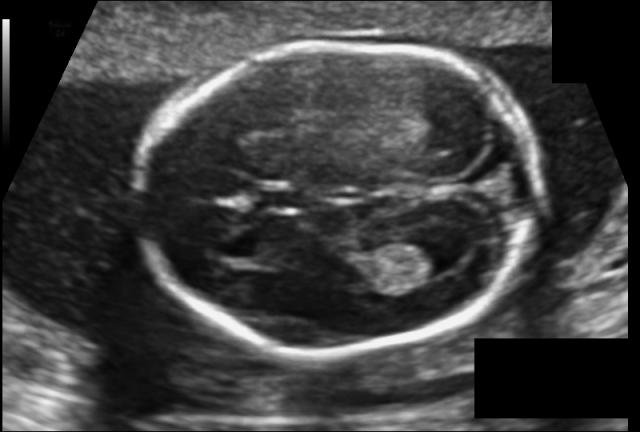CHOROID_PLEXUS: (338, 238, 432, 300)
CSP: (199, 173, 275, 227)
MIDLINE_FALX: (126, 164, 572, 234)
